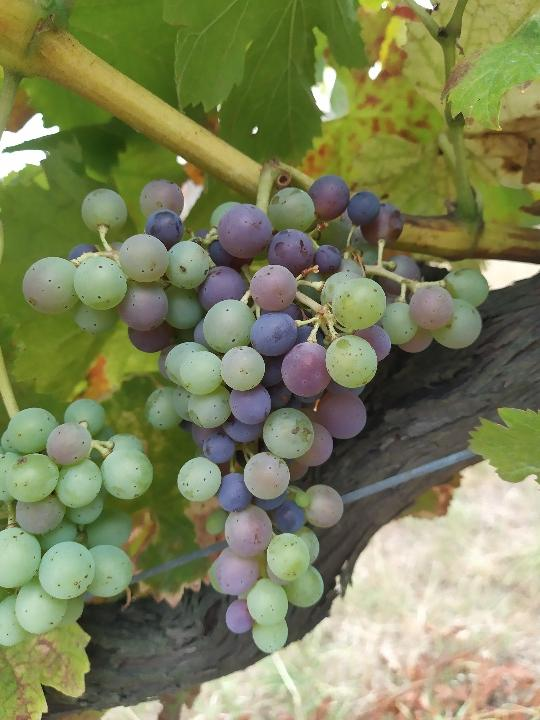grape: (22, 178, 496, 657)
